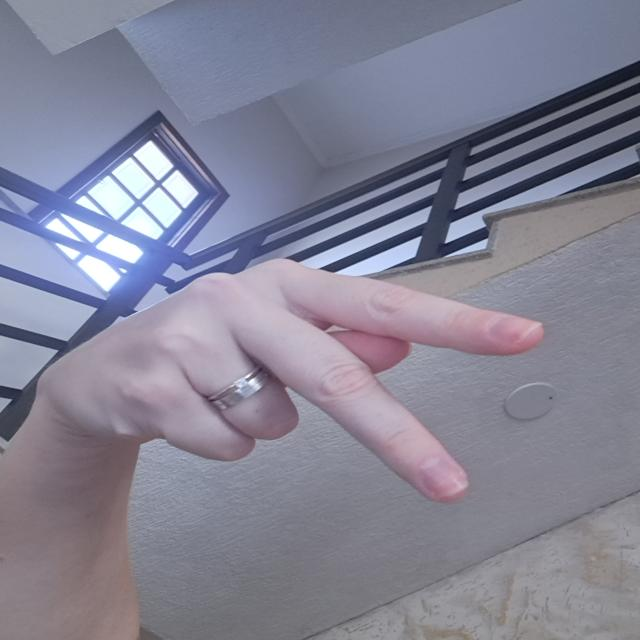P: (55, 251, 565, 512)
